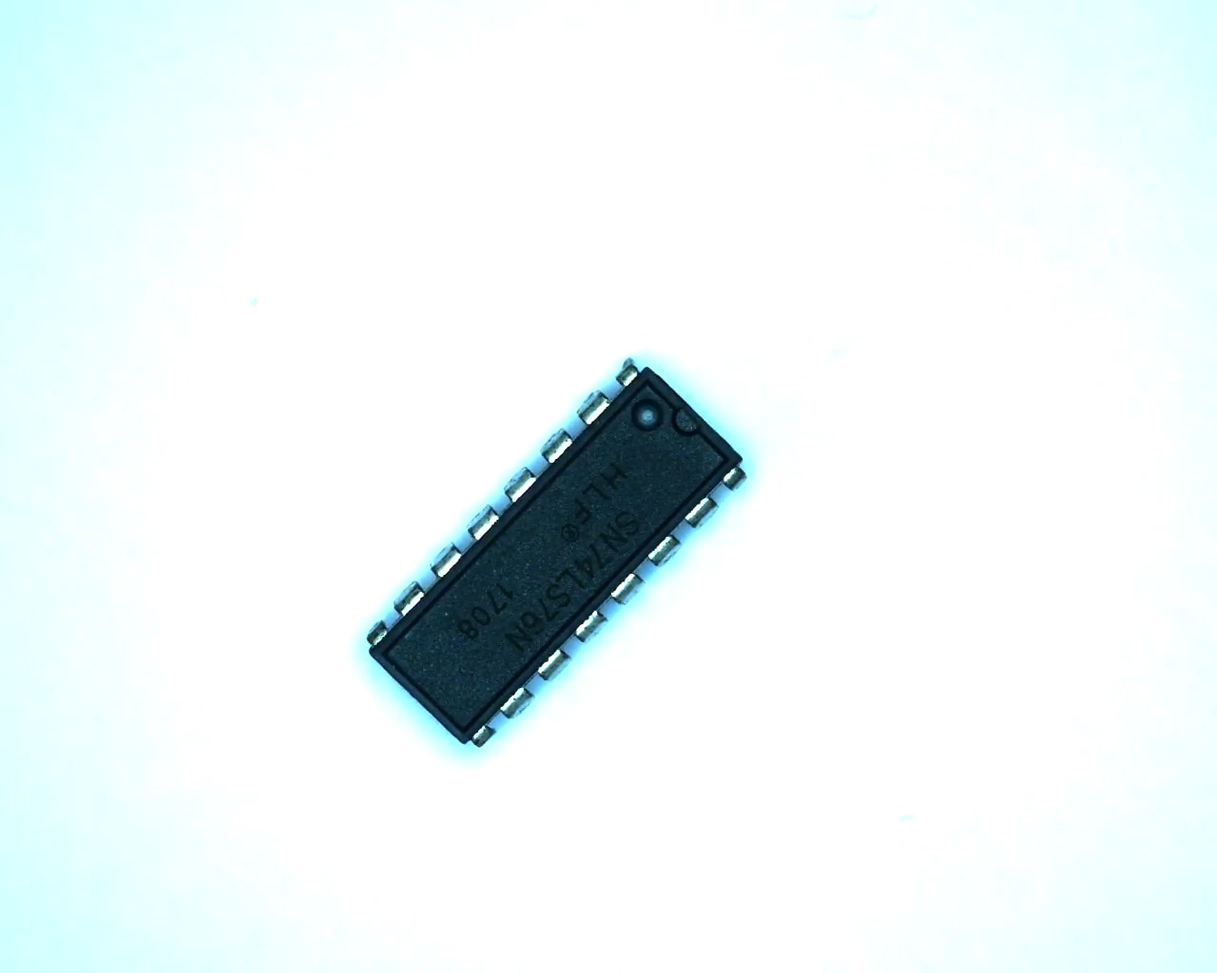IC: (351, 342, 768, 766)
notch: (667, 402, 708, 444)
